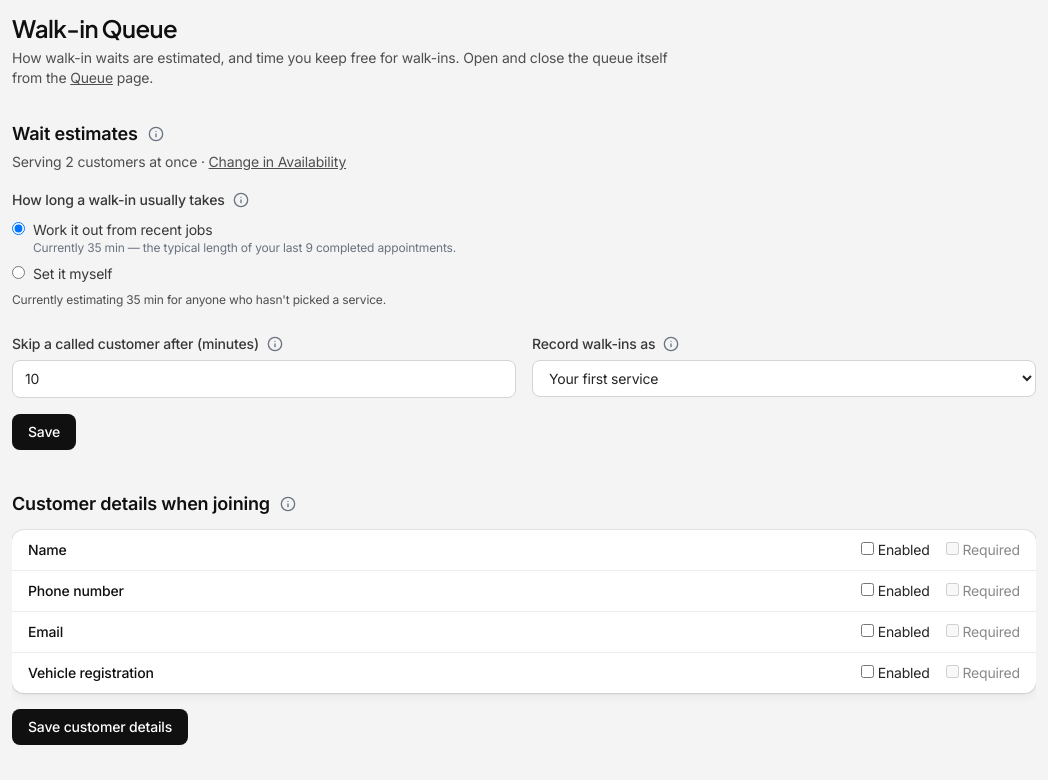
Test case: WalkInQueueSettings › shows the owner-only message on a 403
Click the button "Save": (44, 432) [12,414,76,450]
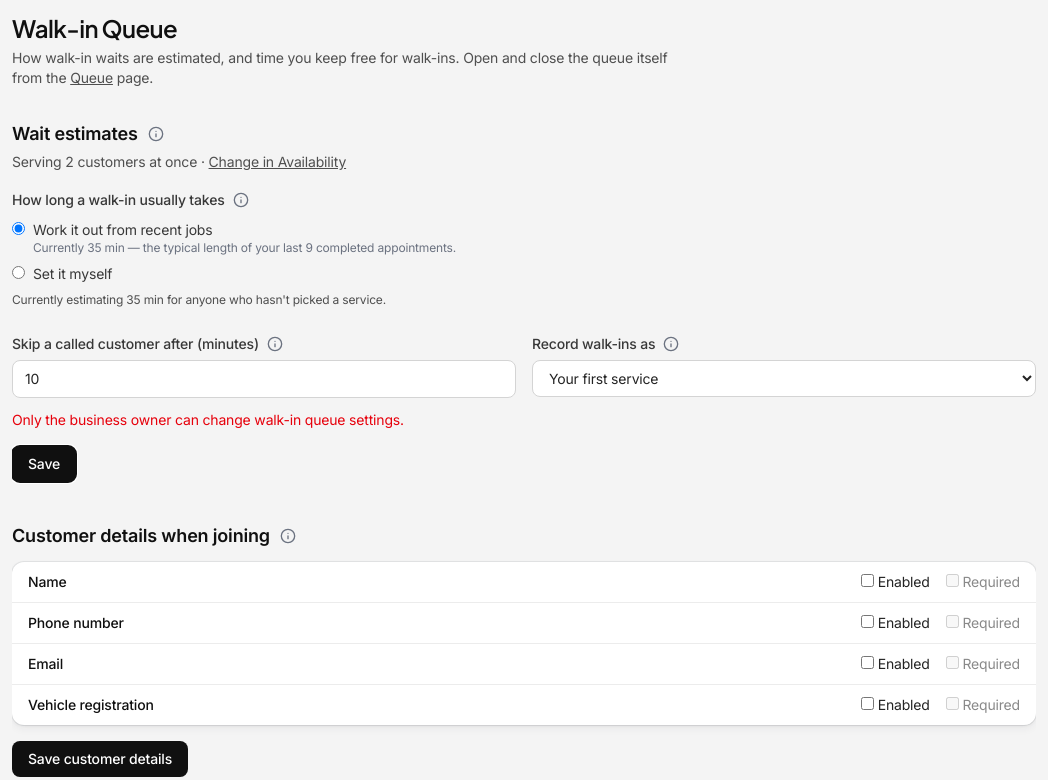
Result: the text "Only the business owner can change walk-in queue settings." is shown at [12,411,404,428]
